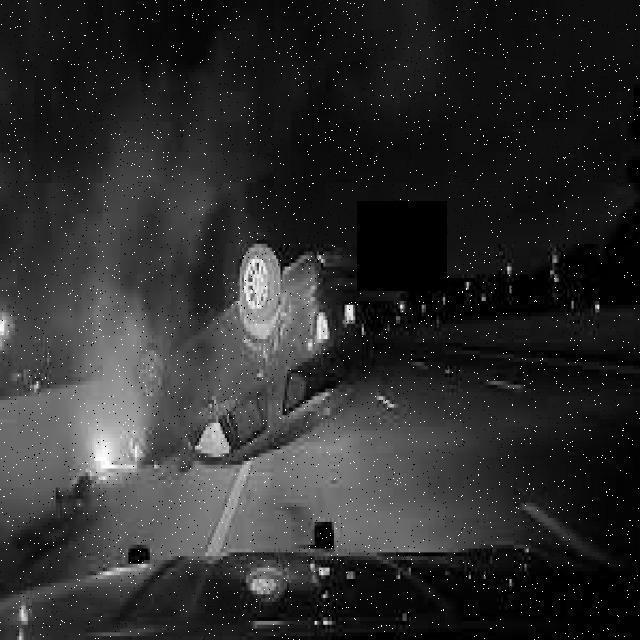accident: (121, 227, 376, 471)
